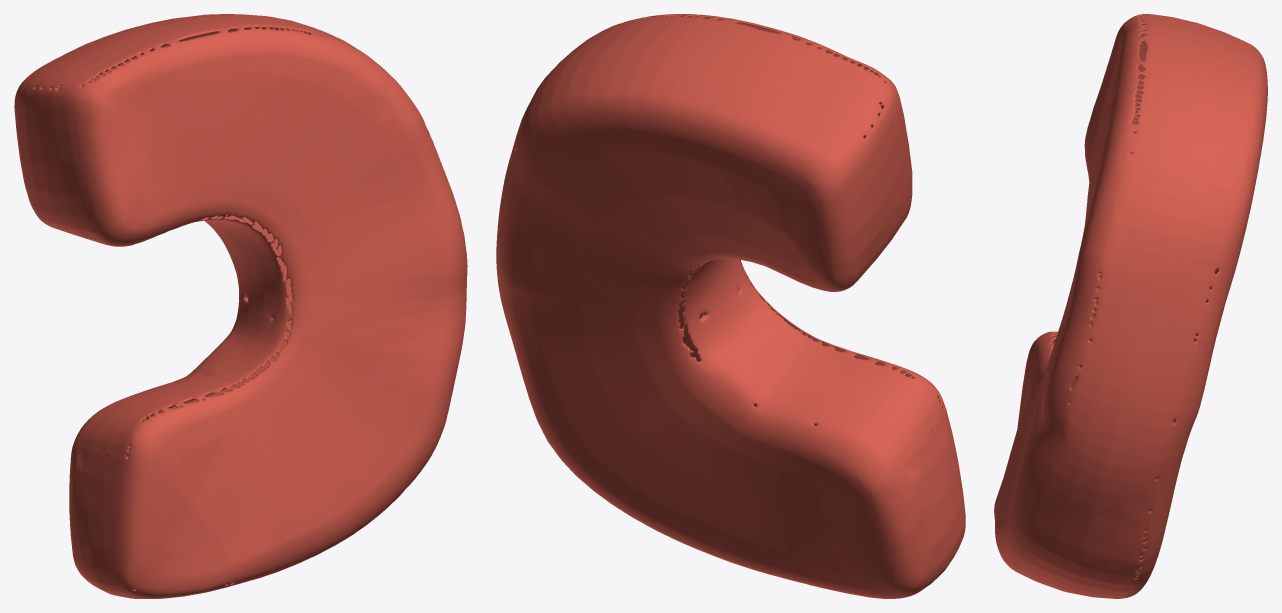
File: Stack 0C - D.glb
3 renders of one model, left to right at view 1: azimuth 30°, elevation 25°; view 2: azimuth 150°, elevation 25°; view 3: azimuth 270°, elevation 25°, orthographic. The views are drawn at different scales.
Visible parts, largest first — view 1: Stack 0C - D · mesh; view 2: Stack 0C - D · mesh; view 3: Stack 0C - D · mesh.
Boxes of the visible parts, x1,y1,x2,y2 form: Stack 0C - D · mesh: (14, 14, 467, 598); Stack 0C - D · mesh: (496, 14, 965, 598); Stack 0C - D · mesh: (994, 14, 1267, 598).
Bounding box in the file's own units: 0.7646 × 1 × 0.478.
